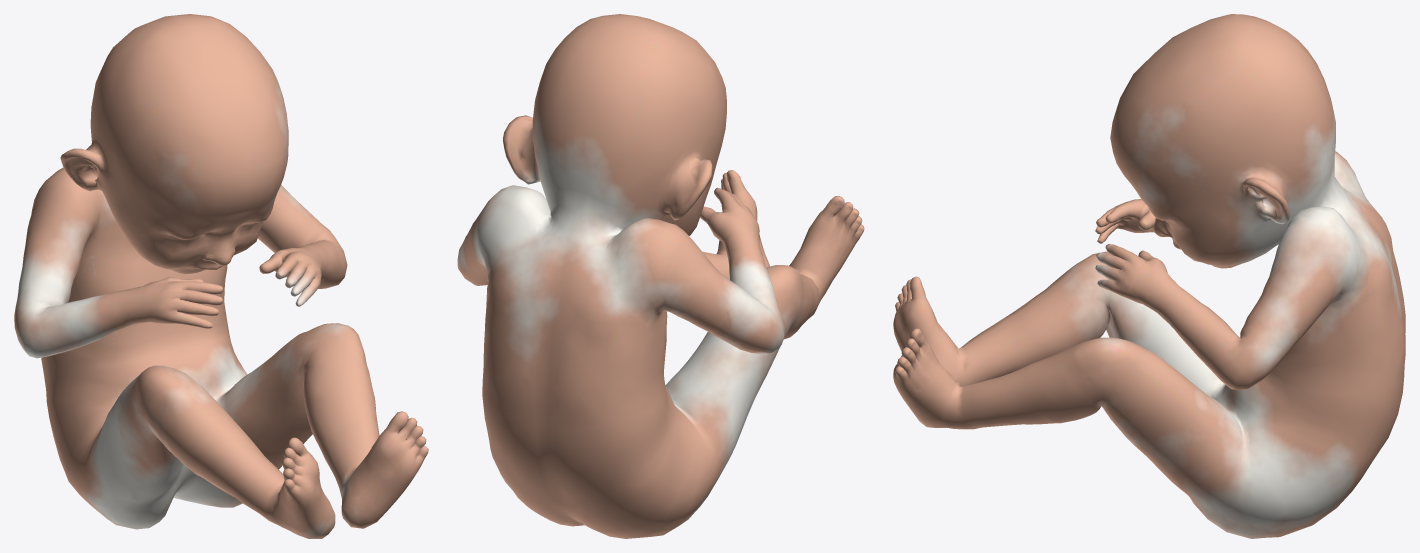
3 views of the same model, side by side, from view 1: azimuth 30°, elevation 25°; view 2: azimuth 150°, elevation 25°; view 3: azimuth 270°, elevation 25° (orthographic).
Parts seen in each view (by area): view 1: Baby; view 2: Baby; view 3: Baby.
Boxes of the visible parts, x1,y1,x2,y2 form: Baby: (14, 14, 428, 538); Baby: (457, 14, 864, 538); Baby: (893, 14, 1405, 538).
Bounding box in the file's own units: 0.2545 × 0.3761 × 0.3548.
1 material, 1 textured.
